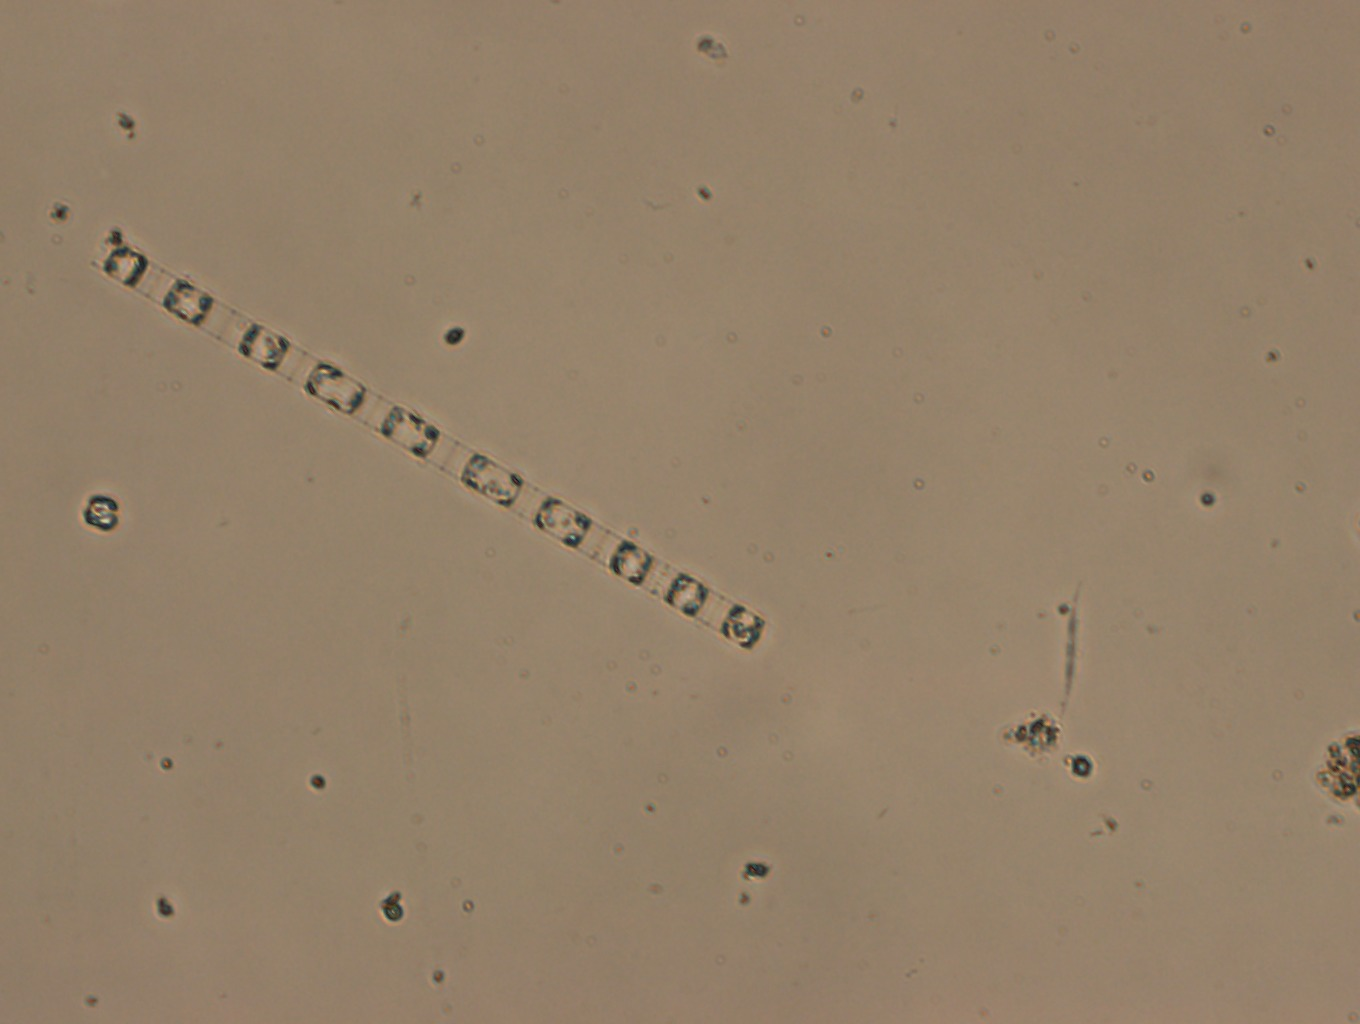skeletonema: (78, 227, 774, 666)
